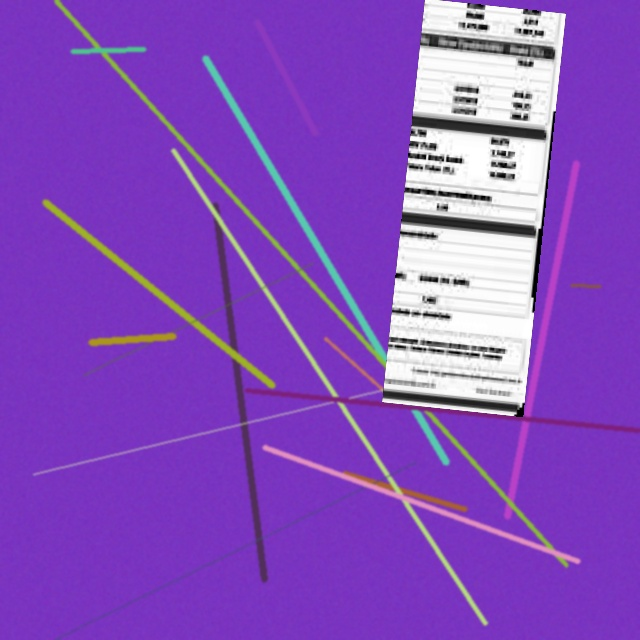electricity-bill: (382, 0, 566, 417)
